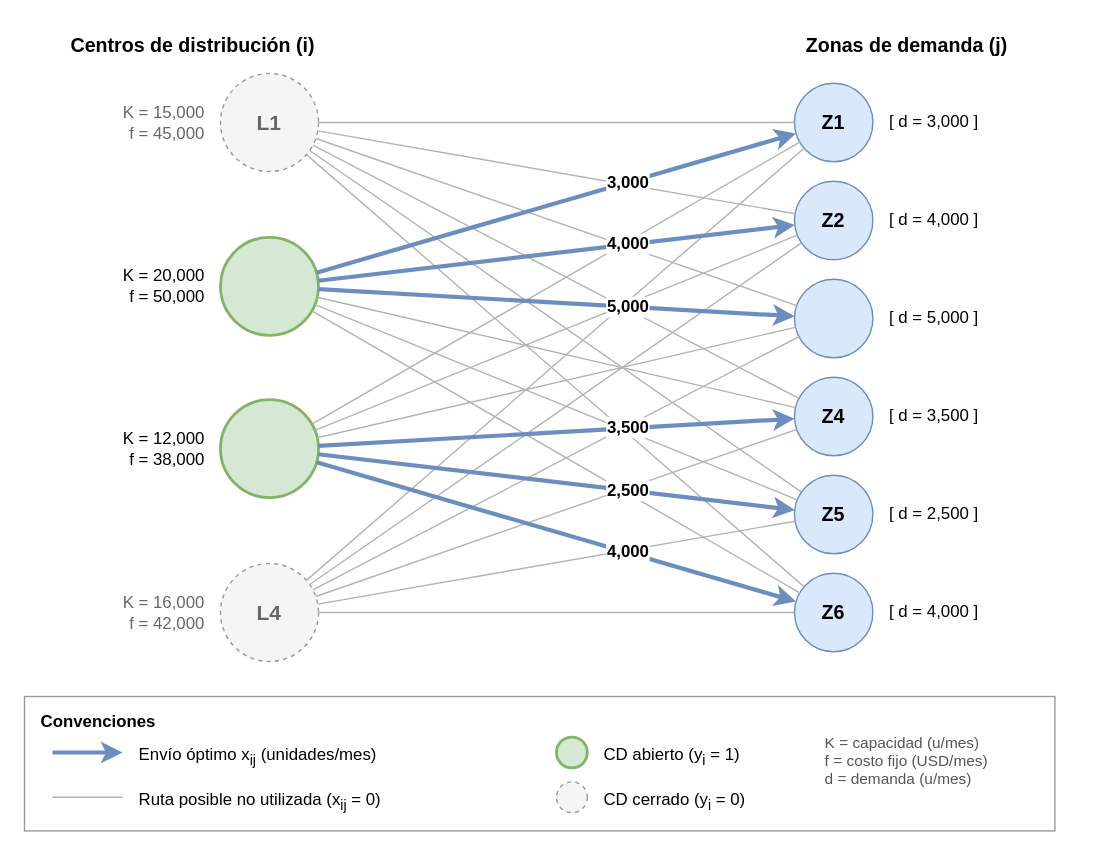
Some shapes in this 1099 by 855 pixel diagram are drawn without their labels. The shapes that lost their labels are listed below. From the top down, each one's centre as x and y in pixels, then its label:
At (268,285): "L2".
At (833,318): "Z3".
At (268,448): "L3".
